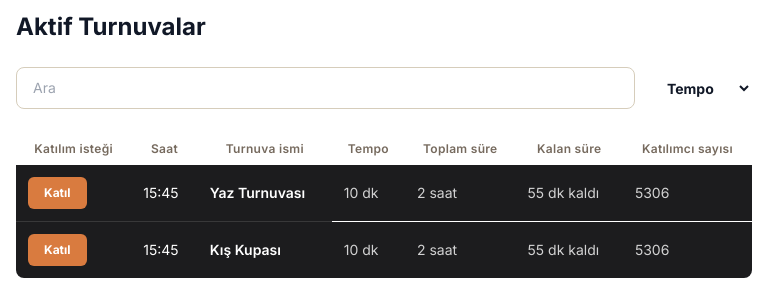
Test: Turnuva Lobisi — /play/tournament/lobby › Ara kutusuna yazınca isim filtrelenir
Expected: the text "Yaz Turnuvası" is shown, x1=198 y1=165 x2=332 y2=222
Type "kış" into the field with placeholder "Ara" at (326,88), box x1=16 y1=67 x2=635 y2=109
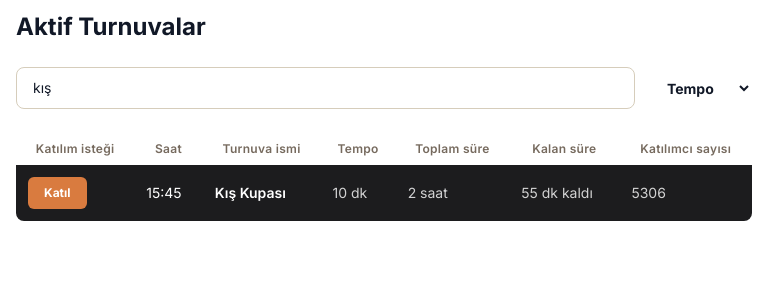
Expected: the text "Kış Kupası" is shown, x1=203 y1=165 x2=320 y2=221
Result: the text "Yaz Turnuvası" is gone
